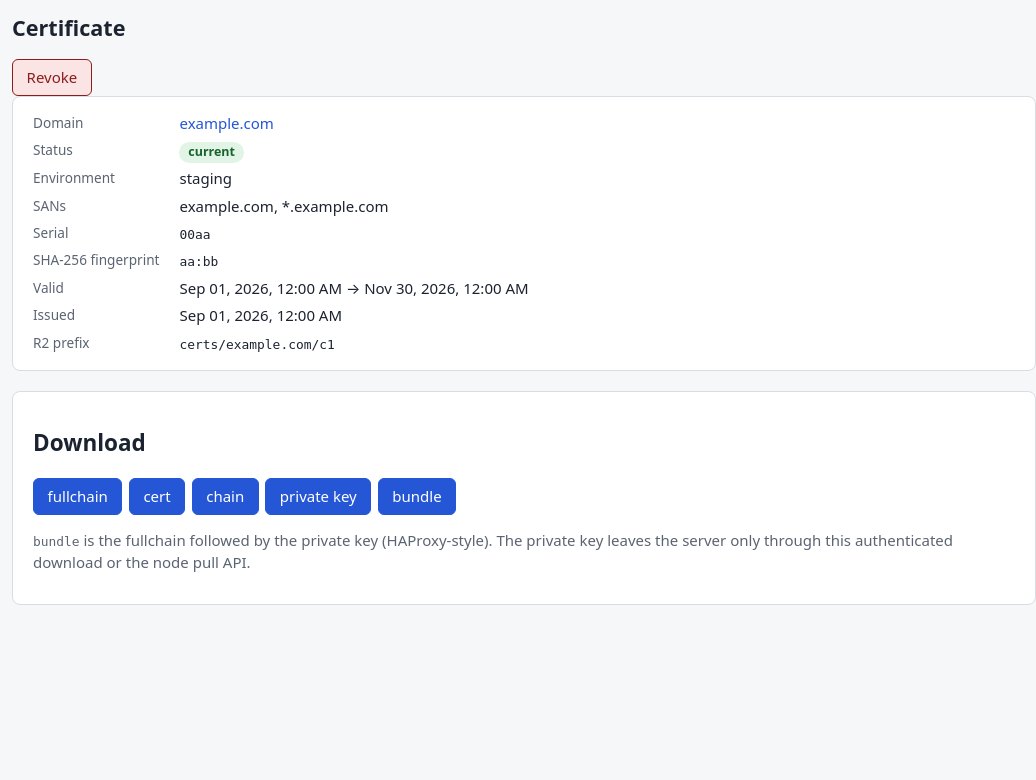
Test case: certificate detail › revokes on confirm, refreshes, and skips without confirmation
Click the button "Revoke": coordinates (52, 78) [12,59,92,96]
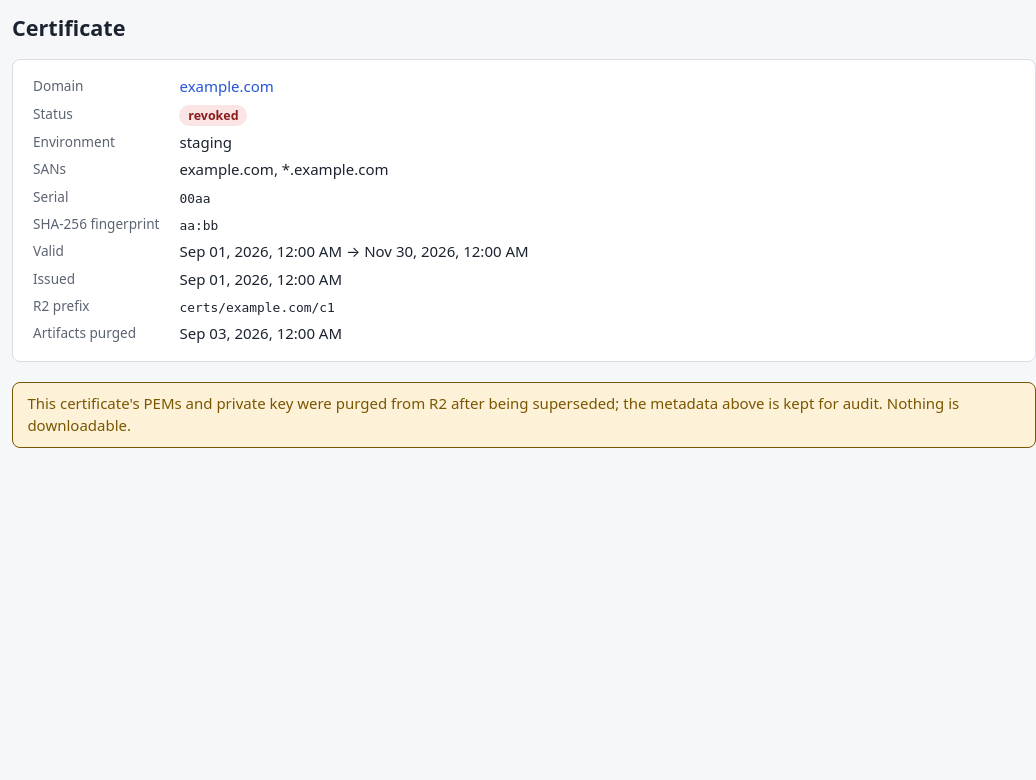
Expected: the text "revoked" is shown, [180,105,247,126]
